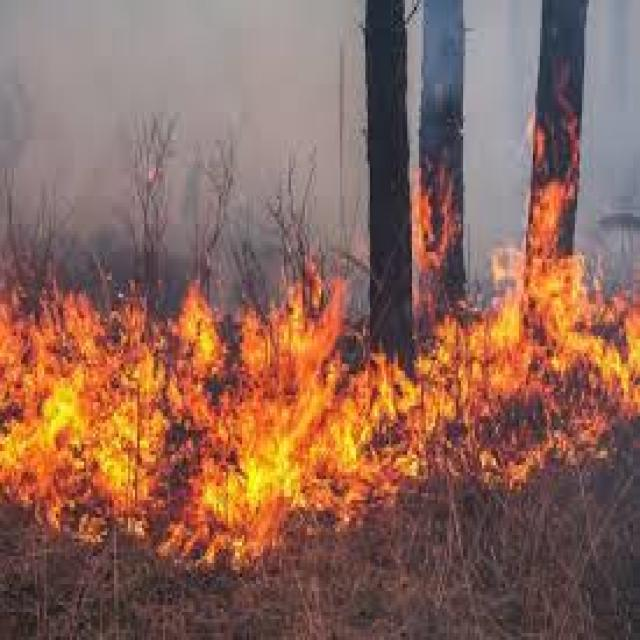Fire: (3, 294, 323, 520), (444, 260, 634, 443), (336, 362, 432, 497)
Smoke: (7, 1, 364, 208), (466, 5, 528, 212), (592, 3, 638, 203)
